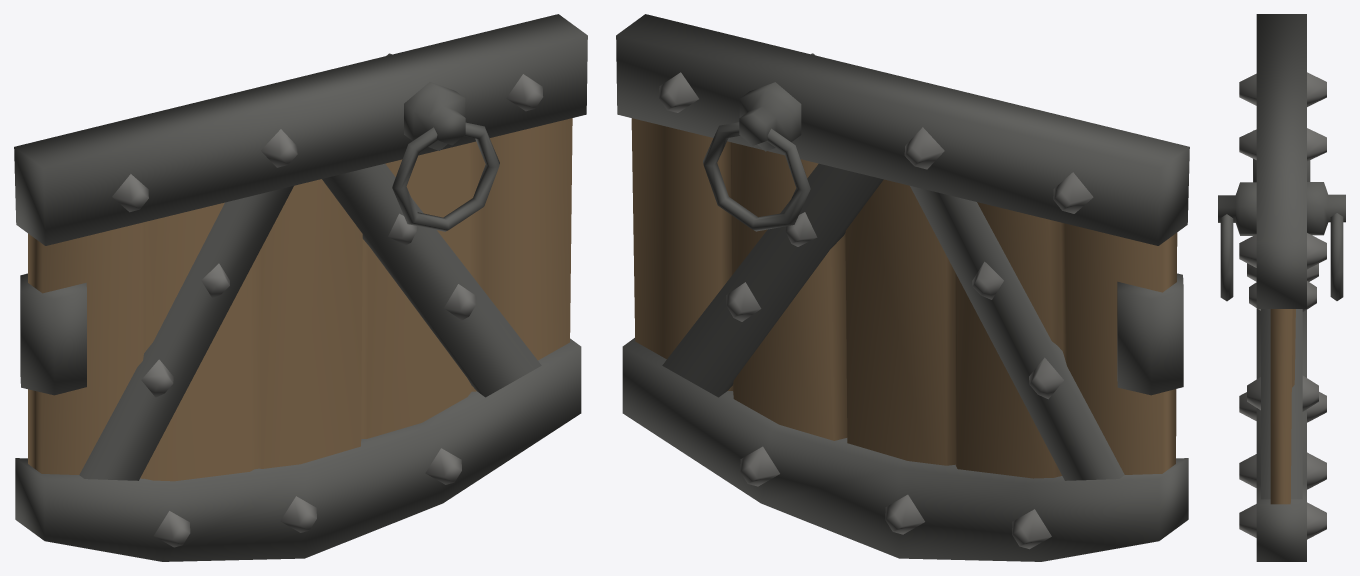
The model's file is rpgpp_ag_door_02_bottom.fbx.
The picture shows the model from 3 angles, left to right: view 1: azimuth 30°, elevation 25°; view 2: azimuth 150°, elevation 25°; view 3: azimuth 270°, elevation 25°; orthographic projection. The views are drawn at different scales.
Visible parts, largest first — view 1: rpgpp_ag_door_02_bottom; view 2: rpgpp_ag_door_02_bottom; view 3: rpgpp_ag_door_02_bottom.
Boxes of the visible parts, x1=… form: rpgpp_ag_door_02_bottom: x1=14, y1=14, x2=587, y2=561; rpgpp_ag_door_02_bottom: x1=616, y1=14, x2=1189, y2=561; rpgpp_ag_door_02_bottom: x1=1218, y1=14, x2=1345, y2=561.
Size of the model in its own units: 1.44 by 1.13 by 0.3376.
